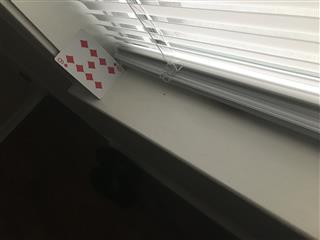NineOfDiamonds: (53, 29, 125, 99)
